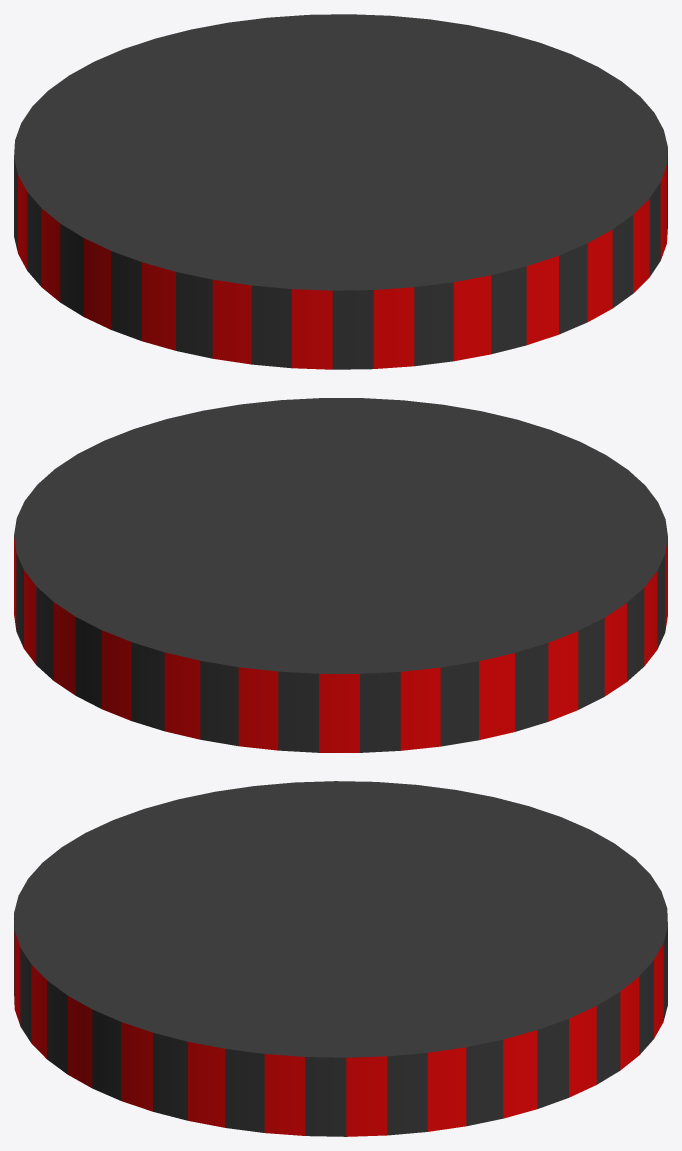
The model's file is twowheel_left_ld.dae.
3 renders of one model, top to bottom at view 1: azimuth 30°, elevation 25°; view 2: azimuth 150°, elevation 25°; view 3: azimuth 270°, elevation 25°, orthographic.
Visible parts, largest first — view 1: SketchUp (×13); view 2: SketchUp (×12); view 3: SketchUp (×13).
Boxes of the visible parts, left/top/right/bottom form: SketchUp (×13): left=14, top=14, right=667, bottom=369; SketchUp (×12): left=14, top=398, right=667, bottom=752; SketchUp (×13): left=14, top=781, right=667, bottom=1136.
Size of the model in its own units: 1.18 by 1.18 by 0.1575.
